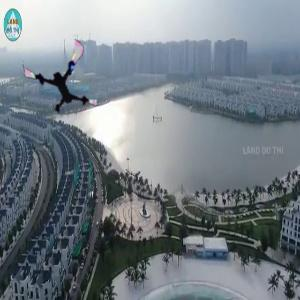drone: (23, 44, 97, 118)
